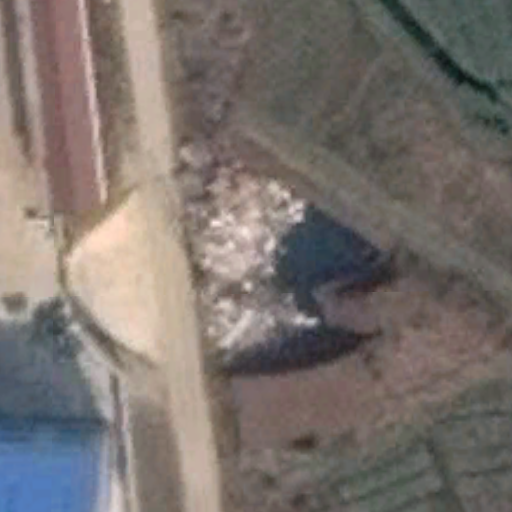msw: (187, 173, 318, 368)
